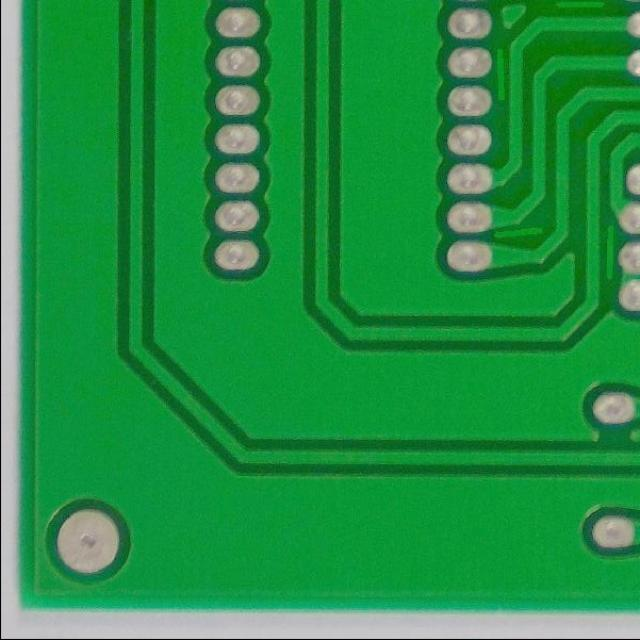Spurious_Cooper: (490, 219, 547, 244), (491, 44, 510, 103), (600, 220, 618, 282), (551, 0, 608, 14)
